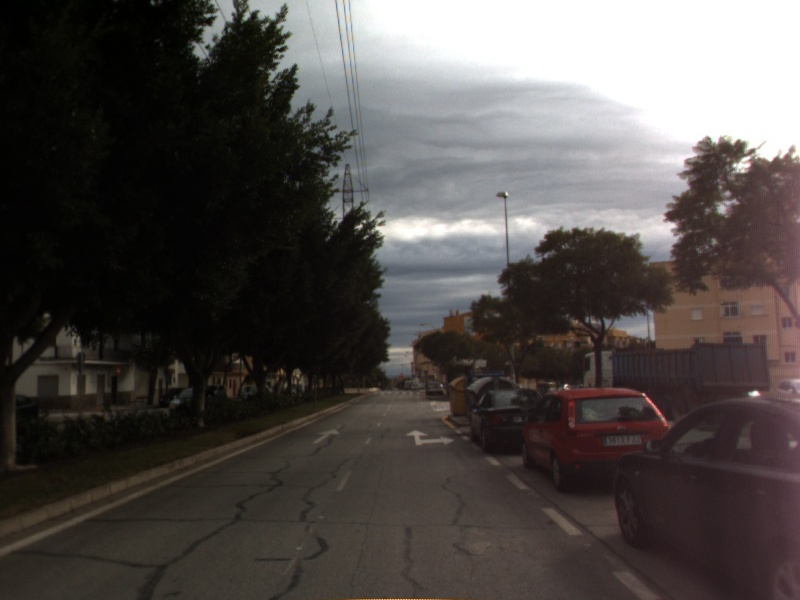STRAIGHT: (310, 426, 343, 446)
STRAIGHT_RIGHT: (404, 428, 457, 447)
